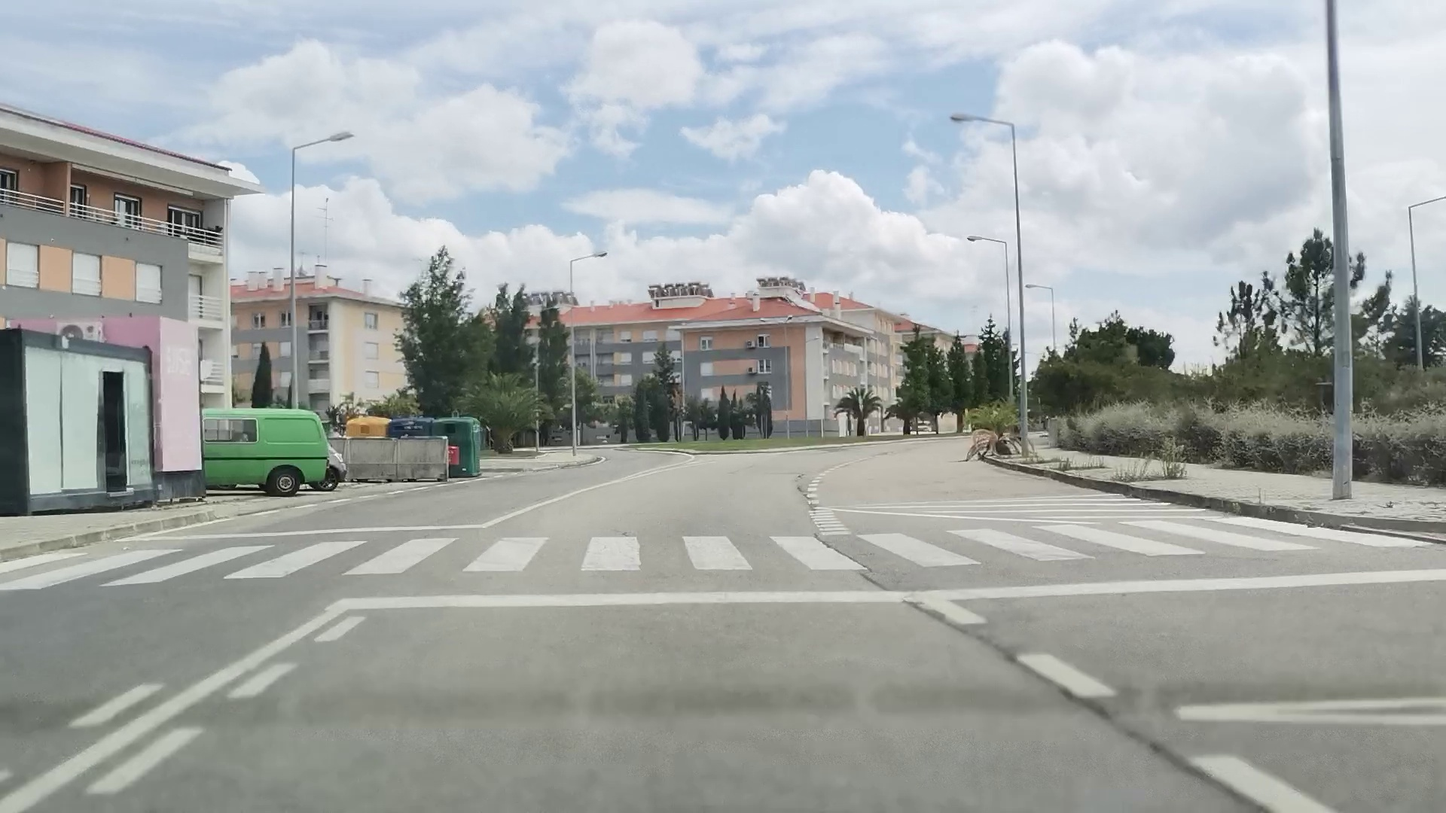Stairs: (0, 513, 1431, 591)
